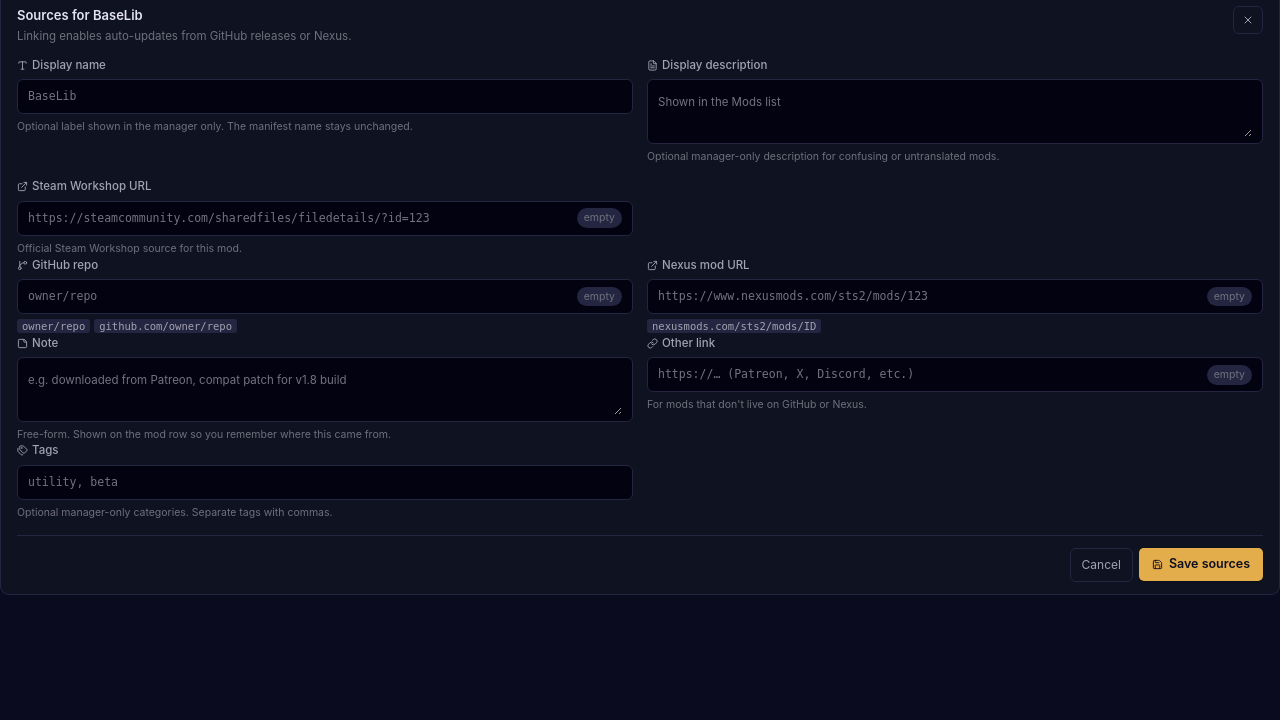
Scenario: <SourceEditor> › "empty" badge shows when a field is blank, "OK" when filled
Expected: the text "empty" is shown 4 times, [577,208,622,228]; [577,286,622,306]; [1207,286,1252,306]; [1207,365,1252,385]
Type "foo/bar" into the field with placeholder "owner/repo" at (298, 296), box [28,280,569,313]
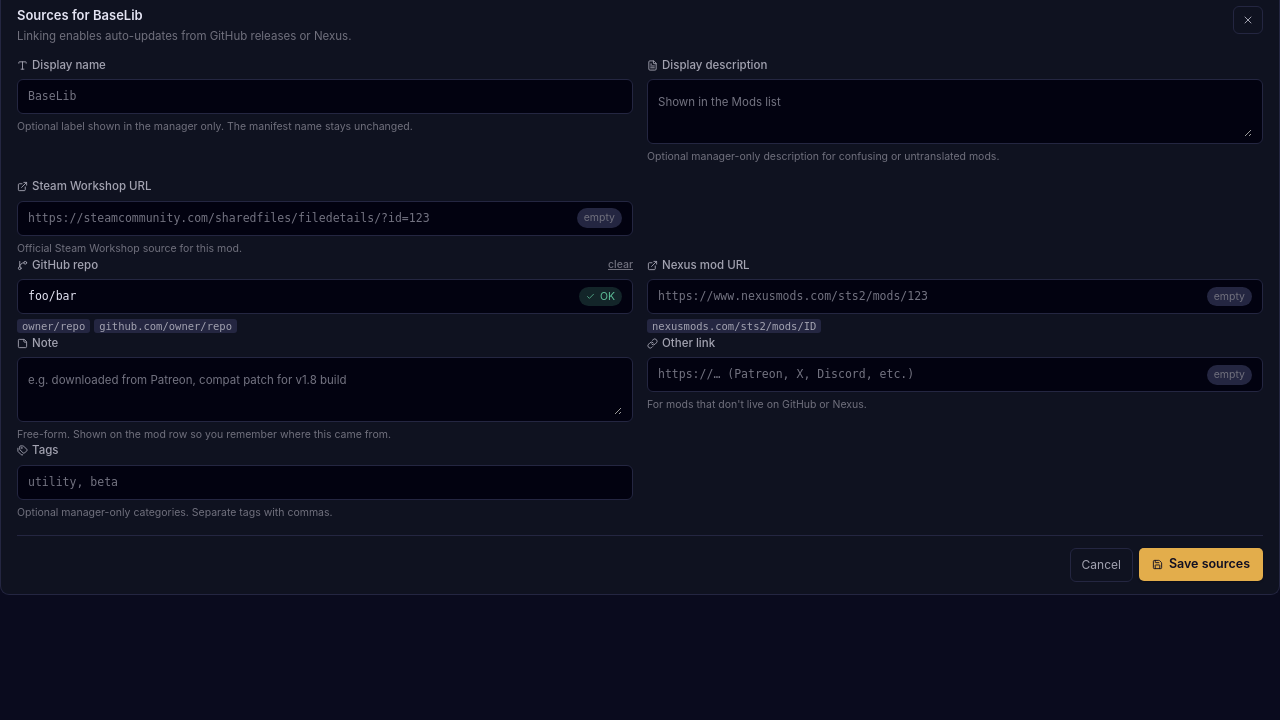
Expected: the text "empty" is shown 3 times, [577,208,622,228]; [1207,286,1252,306]; [1207,365,1252,385]
Expected: the text "OK" is shown, [579,286,622,306]
